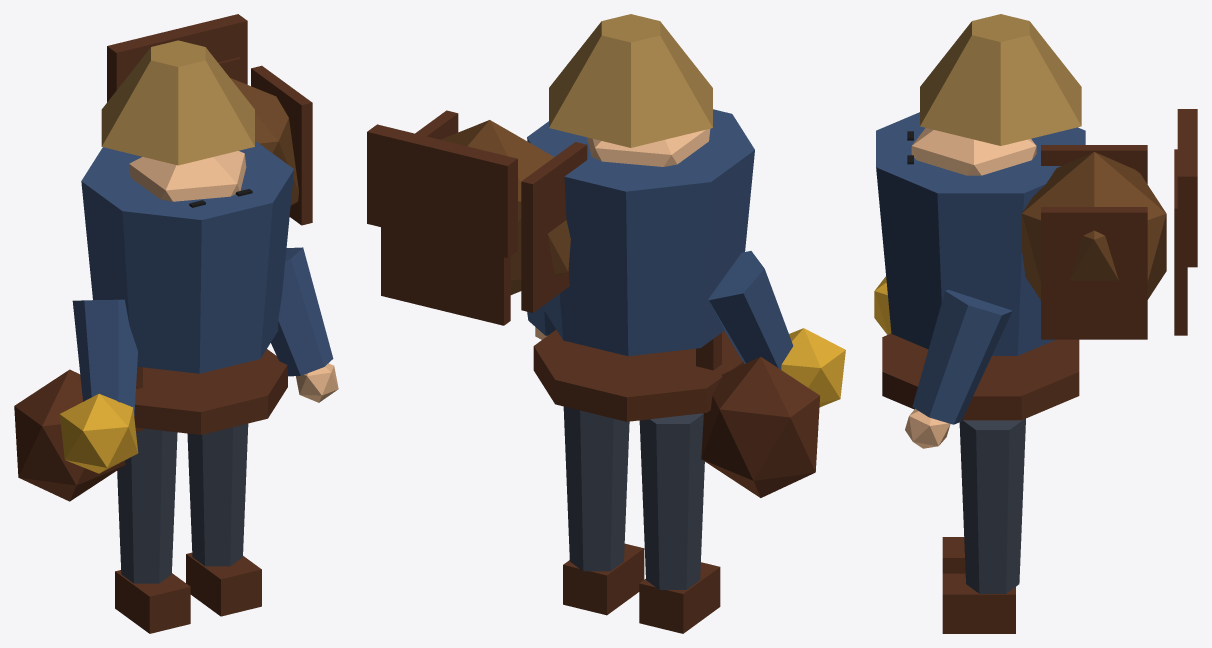
File: npcpose_merchant_idle_09.glb
3 views of the same model, side by side, from view 1: azimuth 30°, elevation 25°; view 2: azimuth 150°, elevation 25°; view 3: azimuth 270°, elevation 25° (orthographic). The views are drawn at different scales.
Visible parts, largest first — view 1: npcpose; view 2: npcpose; view 3: npcpose.
Boxes of the visible parts, box(x1,y1,x2,y2) form: npcpose: box(14, 14, 338, 633); npcpose: box(367, 14, 845, 633); npcpose: box(874, 14, 1197, 633).
Size of the model in its own units: 1.2 by 1.91 by 0.9691.
